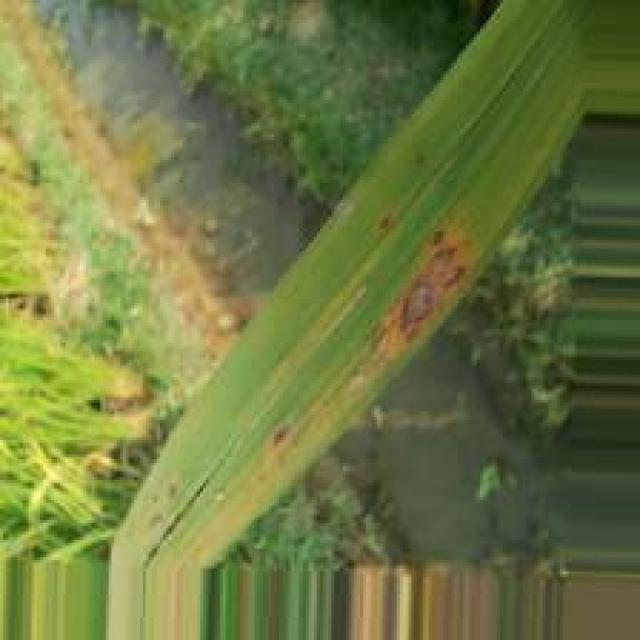Leaf_Blast: (374, 223, 477, 368)
